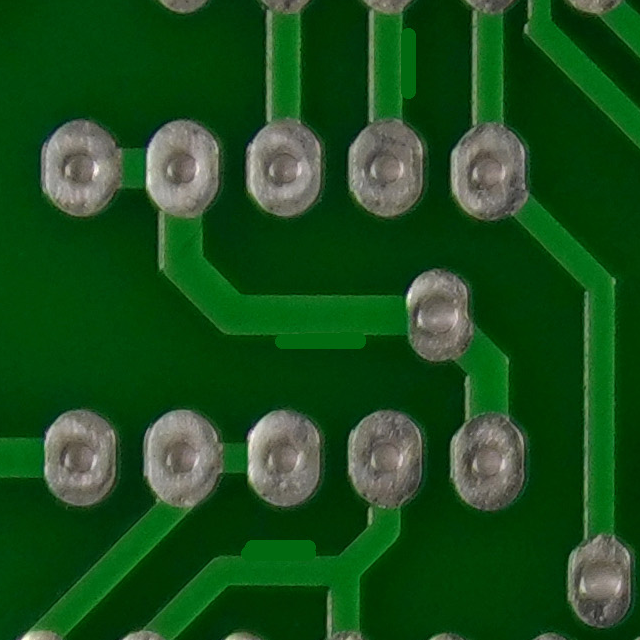spur: (258, 273, 383, 367), (215, 524, 333, 590), (356, 10, 429, 108)
